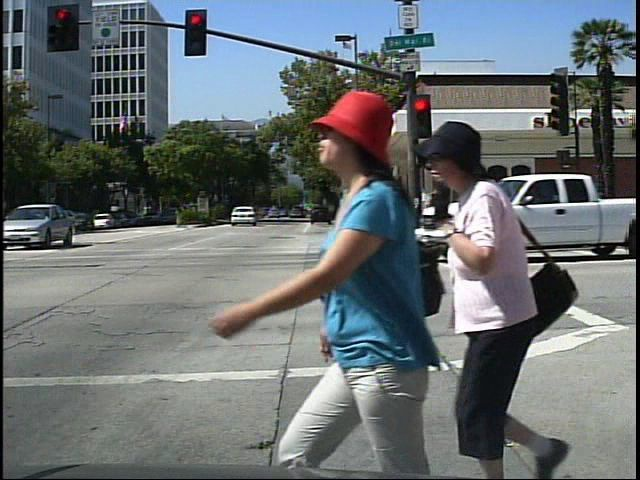person: (243, 64, 444, 478), (424, 117, 578, 480)
